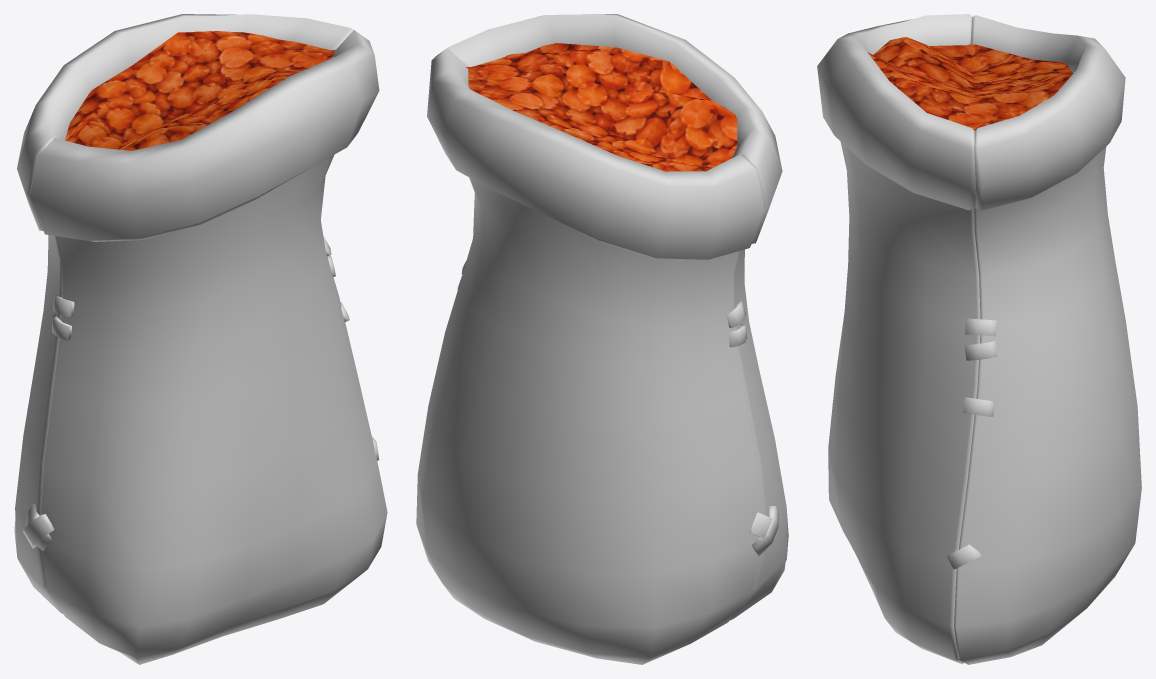
The model's file is SM_Sack_B01.fbx.
The picture shows the model from 3 angles, left to right: view 1: azimuth 30°, elevation 25°; view 2: azimuth 150°, elevation 25°; view 3: azimuth 270°, elevation 25°; orthographic projection. The views are drawn at different scales.
Visible parts, largest first — view 1: SM_Sack_B01; view 2: SM_Sack_B01; view 3: SM_Sack_B01.
Part boxes in pixels (x1,y1,x2,y2): SM_Sack_B01: (14, 14, 387, 664); SM_Sack_B01: (416, 14, 788, 664); SM_Sack_B01: (817, 14, 1141, 664).
Size of the model in its own units: 215 by 169 by 334.
